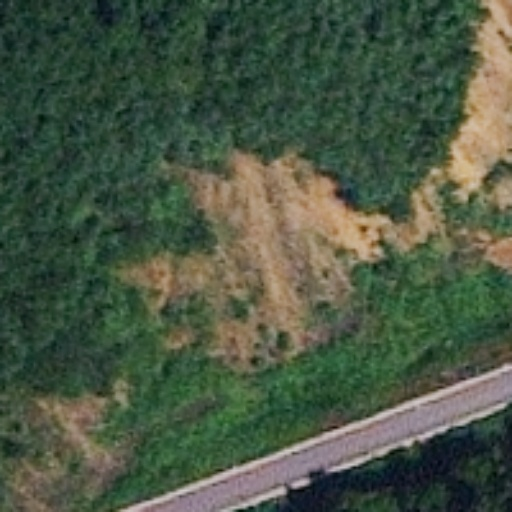landslide: (127, 155, 392, 368), (403, 2, 509, 252), (25, 382, 127, 492)
